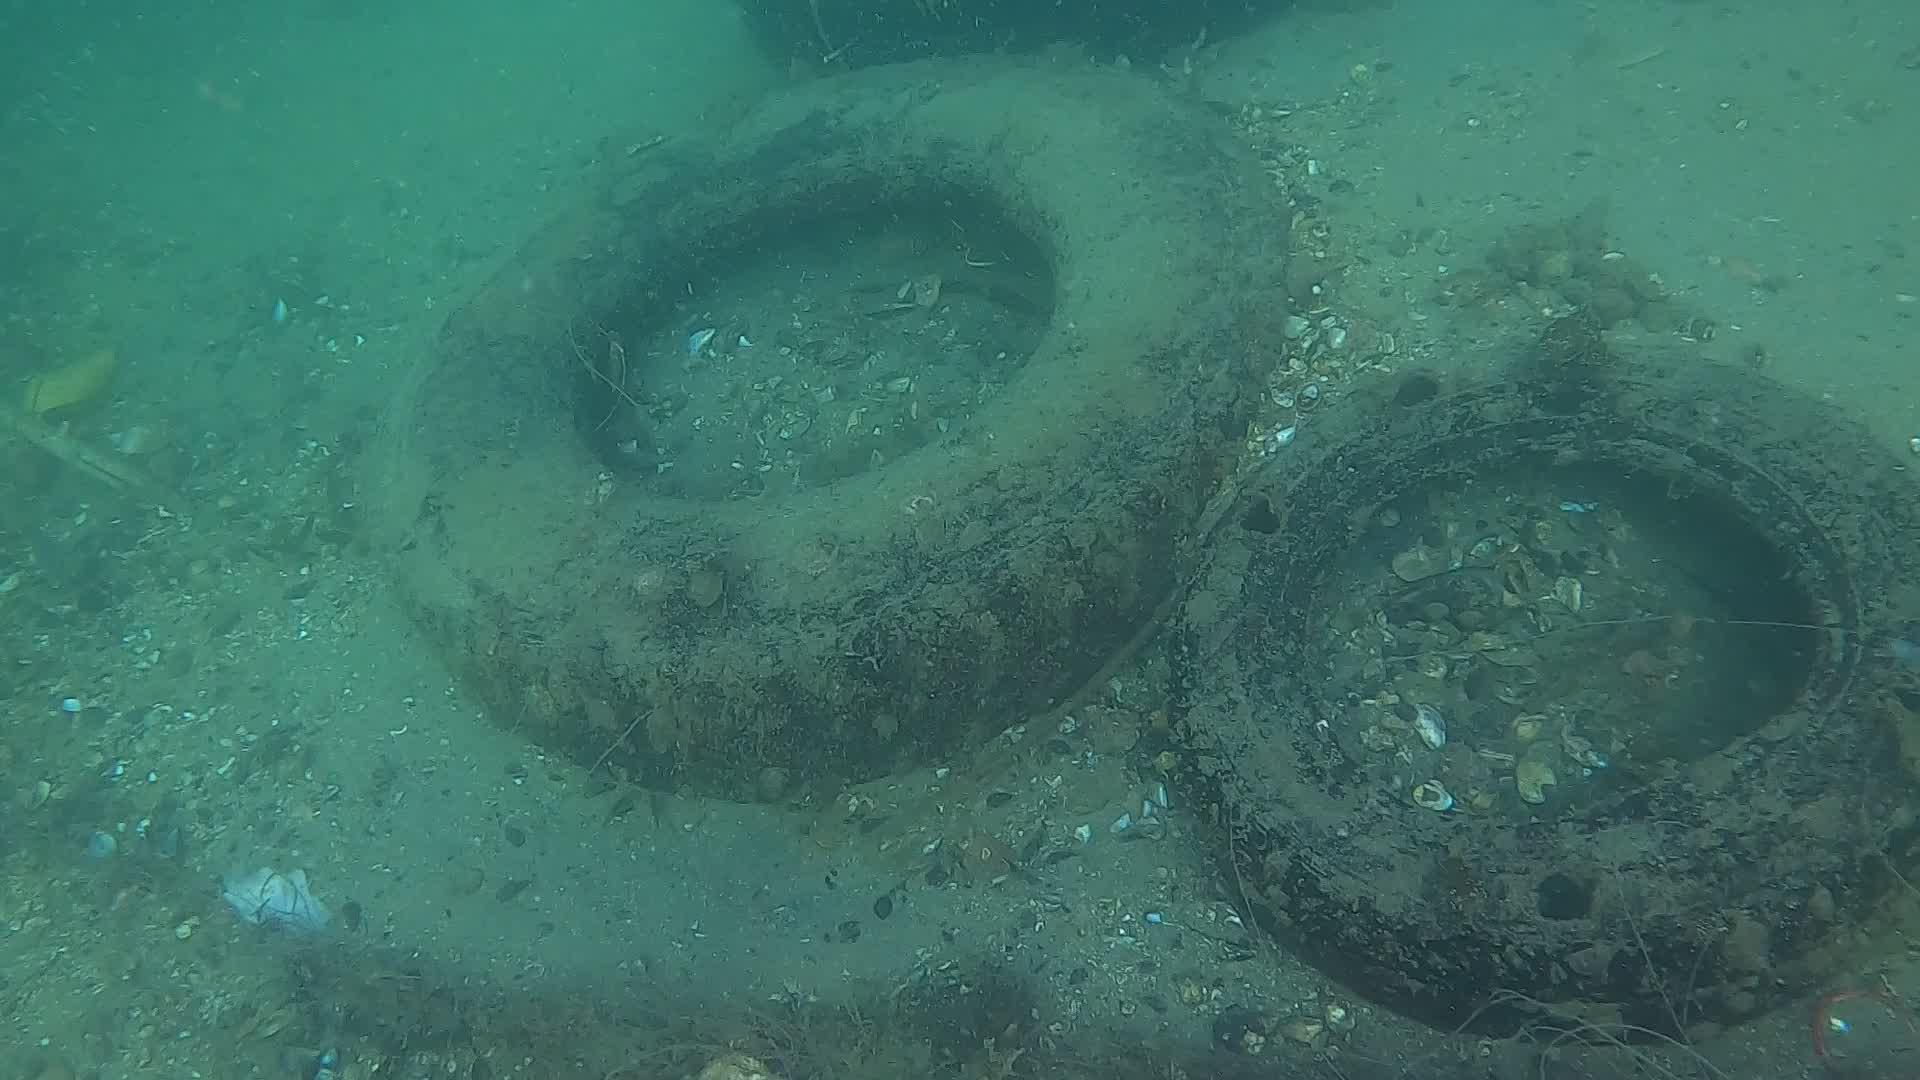tire: (347, 55, 1286, 800), (1168, 340, 1920, 1040)
